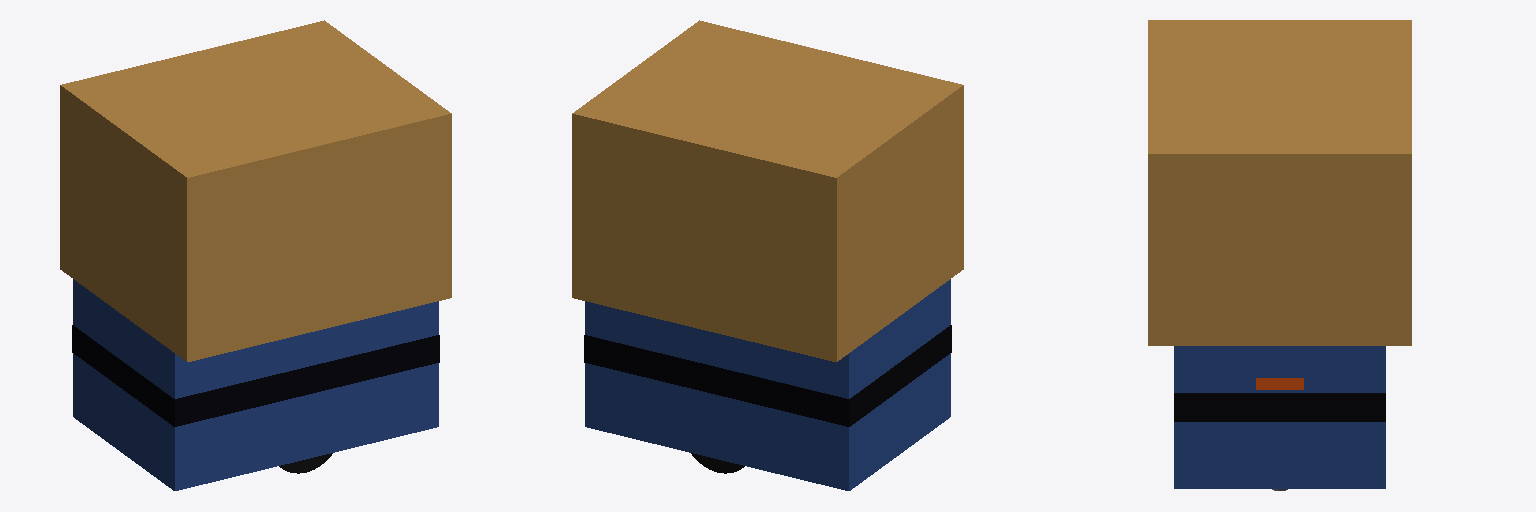
URDF robot description (amr):
<?xml version="1.0" ?>
<!--
  차동 구동 AMR 최상위 xacro (명세 4장 1절 "로봇 모델링"/"센서 시스템 구성", 4장 2절 TF)

  모든 치수/질량/관성/동역학 제한/구동계/센서 사양/토픽·프레임 이름은 최상위 config/*.yaml 에서 읽는다
  (xacro.load_yaml). 여기에 숫자를 중복 기재하지 않는다 — YAML 을 고치면 재빌드 없이 재런치만으로
  반영된다 (런치 시점에 xacro 가 다시 평가됨).

  xacro 인자
    robot_name   Gazebo 모델 이름 + gz 토픽 접두어 (/<robot_name>/...)            기본 amr_01
    prefix       모든 link/joint/frame 이름과 <ignition_frame_id> 의 접두어      기본 ""
                 (다중 로봇: "amr_02/" — docs/architecture/multi_robot.md §2)
    config_dir   robot_params.yaml / sensors.yaml 이 있는 디렉토리
                 기본 "" → $ROS_WS/config (ROS_WS 미설정 시 /ros2_ws/config)
    payload      적재물 종류 none | small | medium | large                       기본 none
                 크기·질량은 robot_params.yaml payload.<종류>.{size, mass} — 데크 위 실제 크기 박스
    payload_mass 적재 질량 [kg] 덮어쓰기. 음수(기본 -1)면 payload 종류의 질량.
                 payload 없이 질량만 주면 그 질량을 담을 수 있는 가장 작은 종류의 박스로 모델링한다
                 (예 payload_mass:=25 → large 박스). 0 이면 적재물 없음.
                 payload / payload_mass 는 스폰 시점에 고정되는 적재물이다 (정적 시험용)
    runtime_payload
                 true(기본)면 주행 중 적재/하역용 DetachableJoint 를 넣는다 (amr_gazebo.xacro "런타임 적재물").
                 화물 모델 <robot_name>_cargo 를 amr_simulation payload_manager_node 가 데크 위에 만들고 붙인다
    self_visibility_bit
                 자기 차체 시각체의 가시성 비트 번호 (0~27). 기본 "" → robot_name 끝 숫자 n 에서
                 4 + (n − 1) mod 20 (amr_01 → 4, amr_05 → 8). amr_gazebo.xacro "자기 차체 제외" 참조

  모듈
    amr_inertial.xacro   관성 텐서 매크로 (YAML 대각 성분 / 박스 해석식)
    amr_materials.xacro  RViz/Gazebo 재질
    amr_base.xacro       base_footprint, base_link, 구동 바퀴, 캐스터, cargo_link(+스폰 시점 적재 박스)
    amr_sensors.xacro    lidar_link, camera_link(+optical 프레임 2개), imu_link
    amr_gazebo.xacro     Gazebo Fortress 시스템 플러그인(런타임 적재 DetachableJoint 포함) + 센서 정의
                         + 자기 차체 가시성 비트

  단독 실행 예
    xacro amr.urdf.xacro config_dir:=/ros2_ws/config robot_name:=amr_02 prefix:=amr_02/ payload:=large | check_urdf /dev/stdin
-->
<robot name="amr">
  <!-- 데크(차체 상면), base_link 기준 -->
  <material name="amr_body">
    <color rgba="0.20 0.32 0.55 1.0"/>
  </material>
  <material name="amr_wheel">
    <color rgba="0.10 0.10 0.10 1.0"/>
  </material>
  <material name="amr_caster">
    <color rgba="0.45 0.45 0.45 1.0"/>
  </material>
  <material name="amr_sensor">
    <color rgba="0.85 0.35 0.10 1.0"/>
  </material>
  <material name="amr_sensor_window">
    <color rgba="0.06 0.06 0.08 1.0"/>
  </material>
  <material name="amr_cargo">
    <color rgba="0.72 0.55 0.30 1.0"/>
  </material>
  <link name="amr_02/base_footprint"/>
  <joint name="amr_02/base_footprint_joint" type="fixed">
    <parent link="amr_02/base_footprint"/>
    <child link="amr_02/base_link"/>
    <origin rpy="0 0 0" xyz="0 0 0.18"/>
  </joint>
  <!-- 차체: 박스 중심 = base_link 원점. 질량 base_mass 는 차체만 (총 공차 = base + 바퀴 2 + 캐스터 2) -->
  <link name="amr_02/base_link">
    <visual>
      <origin rpy="0 0 0" xyz="0 0 0"/>
      <geometry>
        <box size="0.6 0.4 0.3"/>
      </geometry>
      <material name="amr_body"/>
    </visual>
    <!--
        LiDAR 창(슬롯) 띠: 스캔 평면 ±3 cm 높이로 차체를 두르는 어두운 창 (외관 표시). 차체보다 2 mm 크게 둬
        면이 겹쳐 깜박이지 않게 한다. 다른 로봇의 LiDAR 에는 차체 외곽으로 보인다 (자기 LiDAR 는 가시성 비트로 제외).
      -->
    <visual>
      <origin rpy="0 0 0" xyz="0 0 0.02"/>
      <geometry>
        <box size="0.602 0.402 0.06"/>
      </geometry>
      <material name="amr_sensor_window"/>
    </visual>
    <collision>
      <origin rpy="0 0 0" xyz="0 0 0"/>
      <geometry>
        <box size="0.6 0.4 0.3"/>
      </geometry>
    </collision>
    <inertial>
      <origin rpy="0 0 0" xyz="0 0 0"/>
      <mass value="45.0"/>
      <inertia ixx="0.9375" ixy="0.0" ixz="0.0" iyy="1.6875" iyz="0.0" izz="1.95"/>
    </inertial>
  </link>
  <joint name="amr_02/left_wheel_joint" type="continuous">
    <parent link="amr_02/base_link"/>
    <child link="amr_02/left_wheel_link"/>
    <origin rpy="0 0 0" xyz="0 0.18 -0.09749999999999999"/>
    <axis xyz="0 1 0"/>
    <!-- 모터·감속기 한계 (robot_params.yaml drive). DiffDrive 의 바퀴 속도 서보가 이 토크 이상을 못 낸다 -->
    <limit effort="3.0" velocity="28.0"/>
  </joint>
  <link name="amr_02/left_wheel_link">
    <visual>
      <origin rpy="1.5707963267948966 0 0" xyz="0 0 0"/>
      <geometry>
        <cylinder length="0.035" radius="0.0825"/>
      </geometry>
      <material name="amr_wheel"/>
    </visual>
    <!-- 충돌은 얇은 원판 (wheel_contact_width, amr.urdf.xacro 주석) — 접지점을 바퀴 중심면에 고정 -->
    <collision>
      <origin rpy="1.5707963267948966 0 0" xyz="0 0 0"/>
      <geometry>
        <cylinder length="0.002" radius="0.0825"/>
      </geometry>
    </collision>
    <inertial>
      <origin rpy="0 0 0" xyz="0 0 0"/>
      <mass value="1.0"/>
      <inertia ixx="0.0018" ixy="0.0" ixz="0.0" iyy="0.0034" iyz="0.0" izz="0.0018"/>
    </inertial>
  </link>
  <joint name="amr_02/right_wheel_joint" type="continuous">
    <parent link="amr_02/base_link"/>
    <child link="amr_02/right_wheel_link"/>
    <origin rpy="0 0 0" xyz="0 -0.18 -0.09749999999999999"/>
    <axis xyz="0 1 0"/>
    <!-- 모터·감속기 한계 (robot_params.yaml drive). DiffDrive 의 바퀴 속도 서보가 이 토크 이상을 못 낸다 -->
    <limit effort="3.0" velocity="28.0"/>
  </joint>
  <link name="amr_02/right_wheel_link">
    <visual>
      <origin rpy="1.5707963267948966 0 0" xyz="0 0 0"/>
      <geometry>
        <cylinder length="0.035" radius="0.0825"/>
      </geometry>
      <material name="amr_wheel"/>
    </visual>
    <!-- 충돌은 얇은 원판 (wheel_contact_width, amr.urdf.xacro 주석) — 접지점을 바퀴 중심면에 고정 -->
    <collision>
      <origin rpy="1.5707963267948966 0 0" xyz="0 0 0"/>
      <geometry>
        <cylinder length="0.002" radius="0.0825"/>
      </geometry>
    </collision>
    <inertial>
      <origin rpy="0 0 0" xyz="0 0 0"/>
      <mass value="1.0"/>
      <inertia ixx="0.0018" ixy="0.0" ixz="0.0" iyy="0.0034" iyz="0.0" izz="0.0018"/>
    </inertial>
  </link>
  <joint name="amr_02/front_caster_joint" type="fixed">
    <parent link="amr_02/base_link"/>
    <child link="amr_02/front_caster_link"/>
    <origin rpy="0 0 0" xyz="0.24 0 -0.15"/>
  </joint>
  <link name="amr_02/front_caster_link">
    <visual>
      <geometry>
        <sphere radius="0.03"/>
      </geometry>
      <material name="amr_caster"/>
    </visual>
    <collision>
      <geometry>
        <sphere radius="0.03"/>
      </geometry>
    </collision>
    <inertial>
      <origin rpy="0 0 0" xyz="0 0 0"/>
      <mass value="0.3"/>
      <inertia ixx="0.000108" ixy="0.0" ixz="0.0" iyy="0.000108" iyz="0.0" izz="0.000108"/>
    </inertial>
  </link>
  <joint name="amr_02/rear_caster_joint" type="fixed">
    <parent link="amr_02/base_link"/>
    <child link="amr_02/rear_caster_link"/>
    <origin rpy="0 0 0" xyz="-0.24 0 -0.15"/>
  </joint>
  <link name="amr_02/rear_caster_link">
    <visual>
      <geometry>
        <sphere radius="0.03"/>
      </geometry>
      <material name="amr_caster"/>
    </visual>
    <collision>
      <geometry>
        <sphere radius="0.03"/>
      </geometry>
    </collision>
    <inertial>
      <origin rpy="0 0 0" xyz="0 0 0"/>
      <mass value="0.3"/>
      <inertia ixx="0.000108" ixy="0.0" ixz="0.0" iyy="0.000108" iyz="0.0" izz="0.000108"/>
    </inertial>
  </link>
  <!--
      적재물. 스폰 시점의 xacro 인자(payload / payload_mass)로 정해진다 — 크기·질량은 robot_params.yaml payload.<종류>.
      명세 8장 물품 표의 실제 크기 박스를 데크 중앙(x = 0, 구동축 위)에 올리고 균질 박스 관성을 준다. fixed 조인트라
      sdformat 이 URDF 루트 링크(base_footprint)에 질량·관성·무게중심을 합산해 Gazebo 동역학에 그대로 들어간다.
      바퀴 토크 한계(drive.wheel_effort_limit)가 있으므로 합산 질량이 가속·제동 응답을 바꾼다 (robot_params.yaml drive 실측).
      적재물이 없으면 형상·관성 없는 빈 프레임만 남는다 (TF 의 cargo_link 는 항상 있다).
      이것은 스폰 시점에 고정되는 적재물이다. 주행 중 적재/하역(재스폰 없이)은 이 링크가 아니라 별도 화물 모델
      <robot_name>_cargo 를 DetachableJoint 로 붙였다 떼는 방식이다 (amr_gazebo.xacro "런타임 적재물",
      amr_simulation payload_manager_node). 둘을 함께 쓰면 질량이 더해지므로 런타임 적재를 쓸 때는 payload 를 비운다.
    -->
  <joint name="amr_02/cargo_joint" type="fixed">
    <parent link="amr_02/base_link"/>
    <child link="amr_02/cargo_link"/>
    <origin rpy="0 0 0" xyz="0 0 0.15"/>
  </joint>
  <link name="amr_02/cargo_link">
    <visual>
      <origin rpy="0 0 0" xyz="0 0 0.2"/>
      <geometry>
        <box size="0.6 0.5 0.4"/>
      </geometry>
      <material name="amr_cargo"/>
    </visual>
    <collision>
      <origin rpy="0 0 0" xyz="0 0 0.2"/>
      <geometry>
        <box size="0.6 0.5 0.4"/>
      </geometry>
    </collision>
    <inertial>
      <origin rpy="0 0 0" xyz="0 0 0.2"/>
      <mass value="25.0"/>
      <inertia ixx="0.8541666666666667" ixy="0.0" ixz="0.0" iyy="1.0833333333333335" iyz="0.0" izz="1.2708333333333335"/>
    </inertial>
  </link>
  <!-- 2D LiDAR -->
  <joint name="amr_02/lidar_joint" type="fixed">
    <parent link="amr_02/base_link"/>
    <child link="amr_02/lidar_link"/>
    <origin rpy="0.0 0.0 0.0" xyz="0.15 0.0 0.02"/>
  </joint>
  <link name="amr_02/lidar_link">
    <visual>
      <geometry>
        <cylinder length="0.04" radius="0.035"/>
      </geometry>
      <material name="amr_sensor"/>
    </visual>
  </link>
  <!-- RGB + Depth 카메라 모듈 본체 프레임 -->
  <joint name="amr_02/camera_joint" type="fixed">
    <parent link="amr_02/base_link"/>
    <child link="amr_02/camera_link"/>
    <origin rpy="0.0 0.0 0.0" xyz="0.29 0.0 0.07"/>
  </joint>
  <link name="amr_02/camera_link">
    <visual>
      <geometry>
        <box size="0.025 0.09 0.025"/>
      </geometry>
      <material name="amr_sensor"/>
    </visual>
  </link>
  <!-- optical 프레임: rgb/depth 블록의 link_frame_id(= camera_link) 의 고정 자식 -->
  <joint name="amr_02/camera_optical_joint" type="fixed">
    <parent link="amr_02/camera_link"/>
    <child link="amr_02/camera_optical_frame"/>
    <origin rpy="-1.5707963 0.0 -1.5707963" xyz="0 0 0"/>
  </joint>
  <link name="amr_02/camera_optical_frame"/>
  <joint name="amr_02/camera_depth_optical_joint" type="fixed">
    <parent link="amr_02/camera_link"/>
    <child link="amr_02/camera_depth_optical_frame"/>
    <origin rpy="-1.5707963 0.0 -1.5707963" xyz="0 0 0"/>
  </joint>
  <link name="amr_02/camera_depth_optical_frame"/>
  <!-- IMU -->
  <joint name="amr_02/imu_joint" type="fixed">
    <parent link="amr_02/base_link"/>
    <child link="amr_02/imu_link"/>
    <origin rpy="0.0 0.0 0.0" xyz="0.0 0.0 0.1"/>
  </joint>
  <link name="amr_02/imu_link">
    <visual>
      <geometry>
        <box size="0.02 0.02 0.008"/>
      </geometry>
      <material name="amr_sensor"/>
    </visual>
  </link>
  <gazebo reference="amr_02/base_link">
    <visual>
      <visibility_flags>32</visibility_flags>
    </visual>
  </gazebo>
  <gazebo reference="amr_02/left_wheel_link">
    <visual>
      <visibility_flags>32</visibility_flags>
    </visual>
  </gazebo>
  <gazebo reference="amr_02/right_wheel_link">
    <visual>
      <visibility_flags>32</visibility_flags>
    </visual>
  </gazebo>
  <gazebo reference="amr_02/front_caster_link">
    <visual>
      <visibility_flags>32</visibility_flags>
    </visual>
  </gazebo>
  <gazebo reference="amr_02/rear_caster_link">
    <visual>
      <visibility_flags>32</visibility_flags>
    </visual>
  </gazebo>
  <gazebo reference="amr_02/lidar_link">
    <visual>
      <visibility_flags>32</visibility_flags>
    </visual>
  </gazebo>
  <gazebo reference="amr_02/camera_link">
    <visual>
      <visibility_flags>32</visibility_flags>
    </visual>
  </gazebo>
  <gazebo reference="amr_02/imu_link">
    <visual>
      <visibility_flags>32</visibility_flags>
    </visual>
  </gazebo>
  <gazebo reference="amr_02/cargo_link">
    <visual>
      <visibility_flags>32</visibility_flags>
    </visual>
  </gazebo>
  <!-- ===== 접촉 마찰 (robot_params.yaml robot.*_friction_coeff). 캐스터는 낮은 mu 로 미끄러지는 구 근사 ===== -->
  <gazebo reference="amr_02/left_wheel_link">
    <mu1>1.0</mu1>
    <mu2>1.0</mu2>
  </gazebo>
  <gazebo reference="amr_02/right_wheel_link">
    <mu1>1.0</mu1>
    <mu2>1.0</mu2>
  </gazebo>
  <gazebo reference="amr_02/front_caster_link">
    <mu1>0.05</mu1>
    <mu2>0.05</mu2>
  </gazebo>
  <gazebo reference="amr_02/rear_caster_link">
    <mu1>0.05</mu1>
    <mu2>0.05</mu2>
  </gazebo>
  <gazebo>
    <!--
        차동 구동 (모터 드라이버 = 컨트롤러 한계). 속도/가속도 제한은 robot_params.yaml limits (Fortress DiffDrive 의
        min/max_linear|angular_velocity|acceleration). 물리 한계는 바퀴 조인트 토크/속도 한계(drive.*, amr_base.xacro)가
        따로 걸어 적재 질량이 크면 이 한계보다 늦게 가속·제동한다.
        감속 한계(min_linear_acceleration)는 정상 감속 1.0 이 아니라 비상 감속 limits.emergency_deceleration 이다 (결정):
        정상 감속 프로파일은 velocity_profiler_node 가 지키고, E-Stop 은 safety_node 가 프로파일을 우회해 0 을 내므로
        여기서 1.0 으로 묶으면 E-Stop 도 2.0 m/s 에서 2 m 를 미끄러진다. 한계가 부호 기준이라 후진 가속에도 적용된다.
        odom 은 /<robot_name>/odom_gz 로만 내보내며(비교용), 이 플러그인의 tf(gz /<robot_name>/odom_gz/tf)는
        기본으로 ROS 에 브리지하지 않는다 — odom→base_footprint TF 는 EKF 가 발행한다. EKF 가 생기기 전 초기 매핑에만
        spawn.launch.py bridge_odom_tf:=true 로 /tf 에 넘긴다 (EKF 와 동시 사용 금지).

        저크 제한(max_linear_jerk)은 여기 넣지 않는다 (결정). Fortress DiffDrive 의 SpeedLimiter 는 목표를
        내다보지 않고 저크만 자르기 때문에 목표 속도 근처에서 감속을 늦게 시작해 ±a²/(2j) 로 계속 진동한다
        (a = 1.0, j = 2.0 → ±0.25 m/s, 주기 ≈ 2 s). 실측(지면 진실): 0.5 m/s 지령에 0.257 ~ 0.745 m/s 로 계속
        진동, 0 지령에서도 |v| 최대 0.245 m/s 로 앞뒤로 흔들려 멈추지 않음. 저크 제한을 빼면 0.500 m/s 정확히
        유지, 정지 잔속 0. 저크 제한 S-curve 는 명세 5장 구현 대상인 amr_navigation velocity_profiler_node
        (cmd_vel_nav → cmd_vel_smoothed)가 담당한다.
        재현하려면 아래에 <max_linear_jerk>/<min_linear_jerk> 를 limits.max_linear_jerk 로 다시 넣으면 된다.
      -->
    <plugin filename="ignition-gazebo-diff-drive-system" name="ignition::gazebo::systems::DiffDrive">
      <left_joint>amr_02/left_wheel_joint</left_joint>
      <right_joint>amr_02/right_wheel_joint</right_joint>
      <wheel_separation>0.36</wheel_separation>
      <wheel_radius>0.0825</wheel_radius>
      <topic>/amr_02/cmd_vel</topic>
      <odom_topic>/amr_02/odom_gz</odom_topic>
      <tf_topic>/amr_02/odom_gz/tf</tf_topic>
      <frame_id>amr_02/odom</frame_id>
      <child_frame_id>amr_02/base_footprint</child_frame_id>
      <odom_publish_frequency>50.0</odom_publish_frequency>
      <max_linear_velocity>2.0</max_linear_velocity>
      <min_linear_velocity>-0.5</min_linear_velocity>
      <max_angular_velocity>1.5</max_angular_velocity>
      <min_angular_velocity>-1.5</min_angular_velocity>
      <max_linear_acceleration>1.0</max_linear_acceleration>
      <min_linear_acceleration>-3.0</min_linear_acceleration>
      <max_angular_acceleration>2.0</max_angular_acceleration>
      <min_angular_acceleration>-2.0</min_angular_acceleration>
    </plugin>
    <!-- 바퀴 관절 상태 → /<robot_name>/joint_states (robot_state_publisher 바퀴 TF + 팀 엔코더 노드 입력) -->
    <plugin filename="ignition-gazebo-joint-state-publisher-system" name="ignition::gazebo::systems::JointStatePublisher">
      <topic>/amr_02/joint_states</topic>
      <joint_name>amr_02/left_wheel_joint</joint_name>
      <joint_name>amr_02/right_wheel_joint</joint_name>
    </plugin>
    <!-- 지면 진실(ground truth) 오도메트리 — 위치 추정 평가 전용 (header.frame_id = world, child = base_footprint) -->
    <plugin filename="ignition-gazebo-odometry-publisher-system" name="ignition::gazebo::systems::OdometryPublisher">
      <odom_frame>world</odom_frame>
      <robot_base_frame>amr_02/base_footprint</robot_base_frame>
      <odom_topic>/amr_02/ground_truth/odom</odom_topic>
      <tf_topic>/amr_02/ground_truth/tf_unused</tf_topic>
      <odom_publish_frequency>50.0</odom_publish_frequency>
      <dimensions>3</dimensions>
    </plugin>
  </gazebo>
  <gazebo>
    <plugin filename="ignition-gazebo-detachable-joint-system" name="ignition::gazebo::systems::DetachableJoint">
      <parent_link>amr_02/base_footprint</parent_link>
      <child_model>amr_02_cargo</child_model>
      <child_link>link</child_link>
      <attach_topic>/amr_02/cargo/attach</attach_topic>
      <detach_topic>/amr_02/cargo/detach</detach_topic>
      <output_topic>/amr_02/cargo/state</output_topic>
      <suppress_child_warning>true</suppress_child_warning>
    </plugin>
  </gazebo>
  <!-- ===== 2D LiDAR (gpu_lidar) ===== -->
  <!-- angle_max 는 YAML 값을 그대로 쓴다: samples 개 빔이 [angle_min, angle_max] 를 등분한다
         (증분 = (max-min)/(samples-1)). 0.5° 정확 증분은 YAML 쪽에서 angle_max = π - 2π/720 로 맞춘다 -->
  <gazebo reference="amr_02/lidar_link">
    <sensor name="amr_02/lidar" type="gpu_lidar">
      <pose>0 0 0 0 0 0</pose>
      <topic>/amr_02/scan</topic>
      <update_rate>10.0</update_rate>
      <always_on>true</always_on>
      <visualize>false</visualize>
      <ignition_frame_id>amr_02/lidar_link</ignition_frame_id>
      <lidar>
        <scan>
          <horizontal>
            <samples>720</samples>
            <resolution>1</resolution>
            <min_angle>-3.14159265</min_angle>
            <max_angle>3.13286601</max_angle>
          </horizontal>
        </scan>
        <range>
          <min>0.1</min>
          <max>25.0</max>
        </range>
        <!-- SDF 1.9: lidar/camera 의 noise 는 <type> 자식 요소 (IMU 의 noise 만 type 속성) -->
        <noise>
          <type>gaussian</type>
          <mean>0.0</mean>
          <stddev>0.03</stddev>
        </noise>
        <!-- 자기 차체 제외 (머리말). 차체 안 슬롯에 있으므로 이것이 없으면 모든 빔이 차체 안쪽 면에 맞는다 -->
        <visibility_mask>4294967263</visibility_mask>
      </lidar>
    </sensor>
  </gazebo>
  <!-- ===== 카메라 (RGB + Depth, 같은 camera_link 에 센서 2개) ===== -->
  <!--
      ignition_frame_id 는 optical 프레임 → 이미지/camera_info header 가 REP-103 광학 규약과 일치.
      Fortress 함정(실측): depth_camera 의 점군(<topic>/points)은 header.frame_id 가 optical 인데 좌표는 센서
      본체 규약(x 전방, y 좌, z 상)으로 채워진다 — 전방 5 m 벽이 점군에서 x≈4.8 로 나온다. 그대로 TF 변환하면
      90° 돌아간다. 점군은 깊이 이미지 + camera_info 로 프로젝트가 직접 만들고(명세 2장), 시뮬레이터 점군을
      쓰려면 소비 측에서 frame_id 를 camera_link 로 바꿔 읽는다 (sensors.yaml depth_camera 주석 참조).
    -->
  <gazebo reference="amr_02/camera_link">
    <sensor name="amr_02/rgb_camera" type="camera">
      <pose>0 0 0 0 0 0</pose>
      <topic>/amr_02/camera/image_raw</topic>
      <update_rate>30.0</update_rate>
      <always_on>true</always_on>
      <visualize>false</visualize>
      <ignition_frame_id>amr_02/camera_optical_frame</ignition_frame_id>
      <camera name="amr_02/rgb_camera">
        <horizontal_fov>1.518436</horizontal_fov>
        <image>
          <width>640</width>
          <height>480</height>
          <format>R8G8B8</format>
        </image>
        <clip>
          <near>0.05</near>
          <far>100.0</far>
        </clip>
        <!-- 렌즈가 전면 창 1 cm 안쪽이라 차체 전면이 near clip 안에 들지만, 자기 차체는 규칙대로 뺀다 -->
        <visibility_mask>4294967263</visibility_mask>
        <noise>
          <type>gaussian</type>
          <mean>0.0</mean>
          <stddev>0.062</stddev>
        </noise>
      </camera>
    </sensor>
    <!-- 깊이 노이즈: Fortress 는 거리 무관 가우시안만 지원 → noise_base 만 센서에 적용하고,
           거리 제곱 항(noise_quadratic_coeff)은 amr_perception 깊이 전처리 노드가 더한다 (sensors.yaml 결정) -->
    <sensor name="amr_02/depth_camera" type="depth_camera">
      <pose>0 0 0 0 0 0</pose>
      <topic>/amr_02/camera/depth/image_raw</topic>
      <update_rate>15.0</update_rate>
      <always_on>true</always_on>
      <visualize>false</visualize>
      <ignition_frame_id>amr_02/camera_depth_optical_frame</ignition_frame_id>
      <camera name="amr_02/depth_camera">
        <horizontal_fov>1.518436</horizontal_fov>
        <image>
          <width>640</width>
          <height>480</height>
          <format>R_FLOAT32</format>
        </image>
        <clip>
          <near>0.2</near>
          <far>10.0</far>
        </clip>
        <visibility_mask>4294967263</visibility_mask>
        <depth_camera>
          <clip>
            <near>0.2</near>
            <far>10.0</far>
          </clip>
        </depth_camera>
        <noise>
          <type>gaussian</type>
          <mean>0.0</mean>
          <stddev>0.005</stddev>
        </noise>
      </camera>
    </sensor>
  </gazebo>
  <!-- ===== IMU ===== -->
  <!--
      enable_orientation=true 로 둔다(결정): Fortress IMU 의 orientation 은 노이즈/드리프트 없는 지면 진실이며,
      기준은 월드가 아니라 센서의 "스폰 시점 자세"다 (yaw=1.57 로 스폰한 로봇도 초기 yaw 0 으로 나온다 — 실측).
      false 로 끄면 브리지가 w=0 인 무효 쿼터니언을 내보내 소비 노드가 깨질 수 있어 켜 둔다.
      따라서 EKF(config/ekf.yaml) 는 imu 의 roll/pitch/yaw 를 융합하면 안 되고 angular_velocity /
      linear_acceleration 만 써야 한다. 노이즈+바이어스 모델은 그 두 값에만 적용된다.
      참고: SDF 월드 기본 중력은 9.8 m/s² (9.80665 아님) — 정지 시 accel z 평균 ≈ 9.8 + bias.
    -->
  <gazebo reference="amr_02/imu_link">
    <sensor name="amr_02/imu" type="imu">
      <pose>0 0 0 0 0 0</pose>
      <topic>/amr_02/imu/data_raw</topic>
      <update_rate>100.0</update_rate>
      <always_on>true</always_on>
      <visualize>false</visualize>
      <ignition_frame_id>amr_02/imu_link</ignition_frame_id>
      <imu>
        <enable_orientation>true</enable_orientation>
        <angular_velocity>
          <x>
            <noise type="gaussian">
              <mean>0.0</mean>
              <stddev>0.0002</stddev>
              <bias_mean>0.01</bias_mean>
              <bias_stddev>7.5e-06</bias_stddev>
              <dynamic_bias_stddev>0.0</dynamic_bias_stddev>
              <dynamic_bias_correlation_time>300.0</dynamic_bias_correlation_time>
            </noise>
          </x>
          <y>
            <noise type="gaussian">
              <mean>0.0</mean>
              <stddev>0.0002</stddev>
              <bias_mean>0.01</bias_mean>
              <bias_stddev>7.5e-06</bias_stddev>
              <dynamic_bias_stddev>0.0</dynamic_bias_stddev>
              <dynamic_bias_correlation_time>300.0</dynamic_bias_correlation_time>
            </noise>
          </y>
          <z>
            <noise type="gaussian">
              <mean>0.0</mean>
              <stddev>0.0002</stddev>
              <bias_mean>0.01</bias_mean>
              <bias_stddev>7.5e-06</bias_stddev>
              <dynamic_bias_stddev>0.0</dynamic_bias_stddev>
              <dynamic_bias_correlation_time>300.0</dynamic_bias_correlation_time>
            </noise>
          </z>
        </angular_velocity>
        <linear_acceleration>
          <x>
            <noise type="gaussian">
              <mean>0.0</mean>
              <stddev>0.017</stddev>
              <bias_mean>0.1</bias_mean>
              <bias_stddev>0.001</bias_stddev>
              <dynamic_bias_stddev>0.0</dynamic_bias_stddev>
              <dynamic_bias_correlation_time>300.0</dynamic_bias_correlation_time>
            </noise>
          </x>
          <y>
            <noise type="gaussian">
              <mean>0.0</mean>
              <stddev>0.017</stddev>
              <bias_mean>0.1</bias_mean>
              <bias_stddev>0.001</bias_stddev>
              <dynamic_bias_stddev>0.0</dynamic_bias_stddev>
              <dynamic_bias_correlation_time>300.0</dynamic_bias_correlation_time>
            </noise>
          </y>
          <z>
            <noise type="gaussian">
              <mean>0.0</mean>
              <stddev>0.017</stddev>
              <bias_mean>0.1</bias_mean>
              <bias_stddev>0.001</bias_stddev>
              <dynamic_bias_stddev>0.0</dynamic_bias_stddev>
              <dynamic_bias_correlation_time>300.0</dynamic_bias_correlation_time>
            </noise>
          </z>
        </linear_acceleration>
      </imu>
    </sensor>
  </gazebo>
</robot>

--- Render facts (derived) ---
3 views of the same robot in one strip: view 1: azimuth 30°, elevation 25°; view 2: azimuth 150°, elevation 25°; view 3: azimuth 270°, elevation 25° (orthographic).
Model amr with 12 links and 11 joints (2 continuous, 9 fixed), rooted at amr_02/base_footprint, posed every joint at zero.
Links seen in each view (by area): view 1: amr_02/cargo_link, amr_02/base_link; view 2: amr_02/cargo_link, amr_02/base_link; view 3: amr_02/cargo_link, amr_02/base_link, amr_02/camera_link.
Link boxes in pixels (<box>): amr_02/cargo_link: <box>60,20,451,361</box>; amr_02/base_link: <box>72,279,439,490</box>; amr_02/cargo_link: <box>572,20,963,361</box>; amr_02/base_link: <box>584,279,951,490</box>; amr_02/cargo_link: <box>1148,20,1411,345</box>; amr_02/base_link: <box>1174,346,1385,488</box>; amr_02/camera_link: <box>1256,378,1303,389</box>.
Bounding box of the posed robot: 0.6035 × 0.5 × 0.73 m (x, y, z).
Geometry: primitives only (box / cylinder / sphere), no mesh files.
